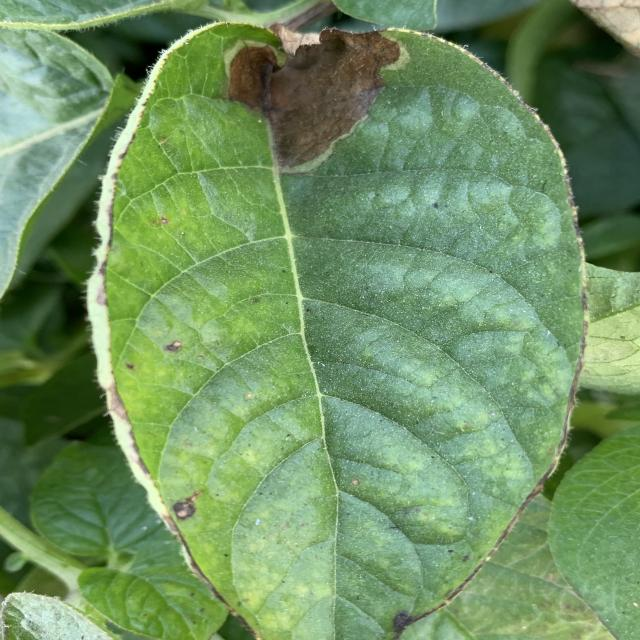lateblight: (228, 29, 400, 168)
